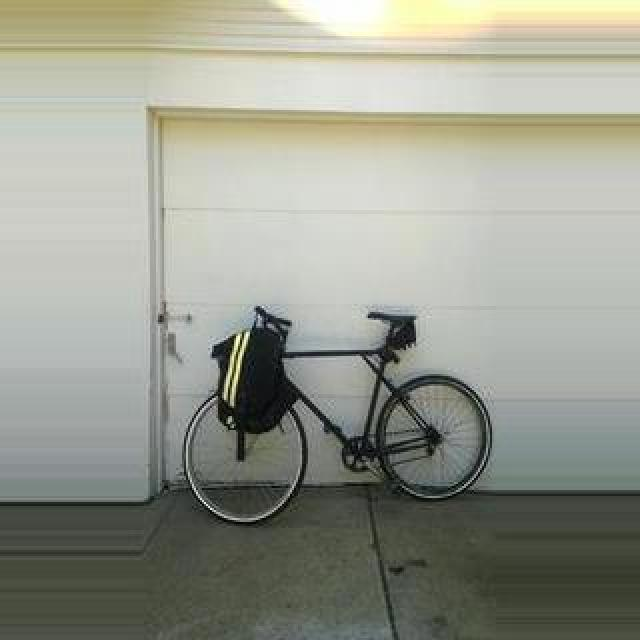Person: (183, 305, 491, 523)
